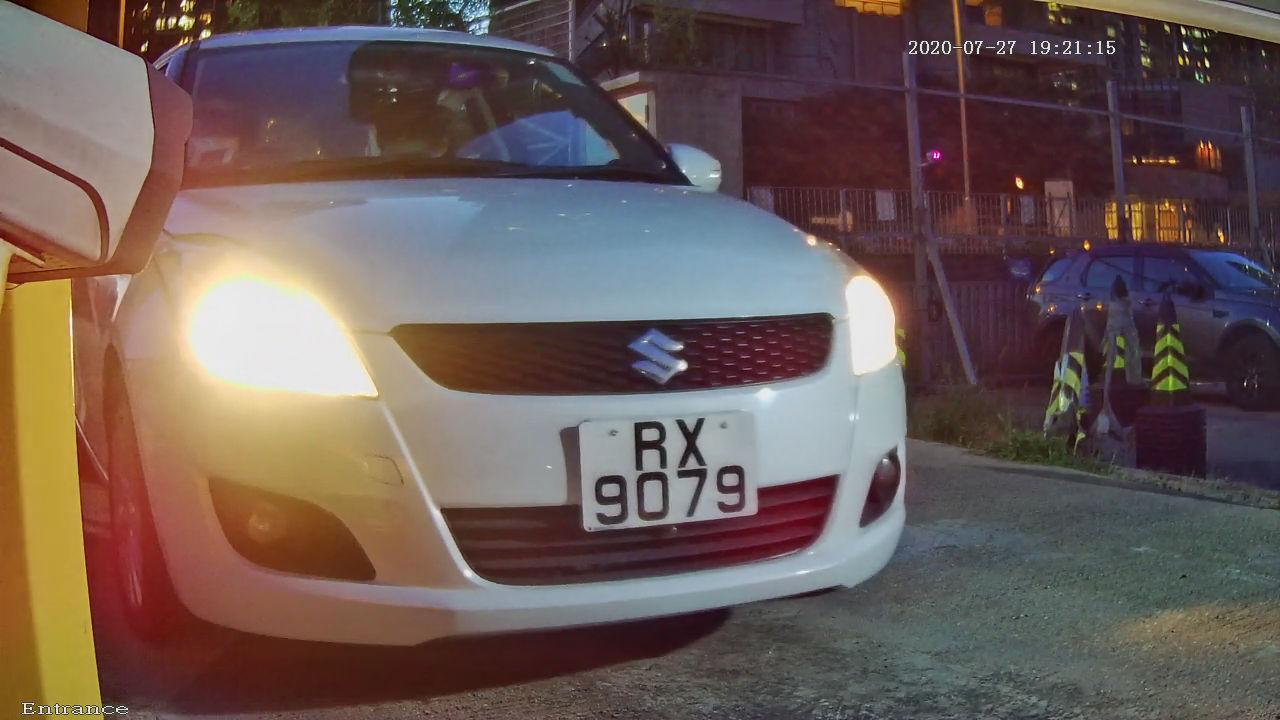privatecar: (80, 10, 949, 682)
